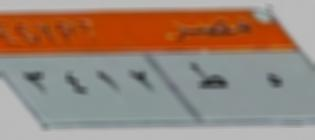1: (95, 67, 122, 101)
2: (129, 64, 153, 96)
3: (21, 67, 50, 98)
4: (63, 69, 88, 102)
Taa: (186, 57, 233, 98)
haa: (258, 65, 285, 100)
